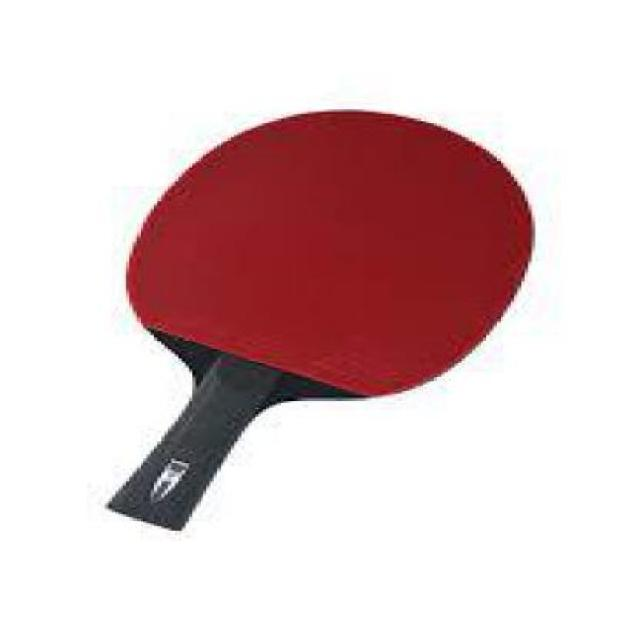table_tennis_racket: (120, 110, 541, 405)
